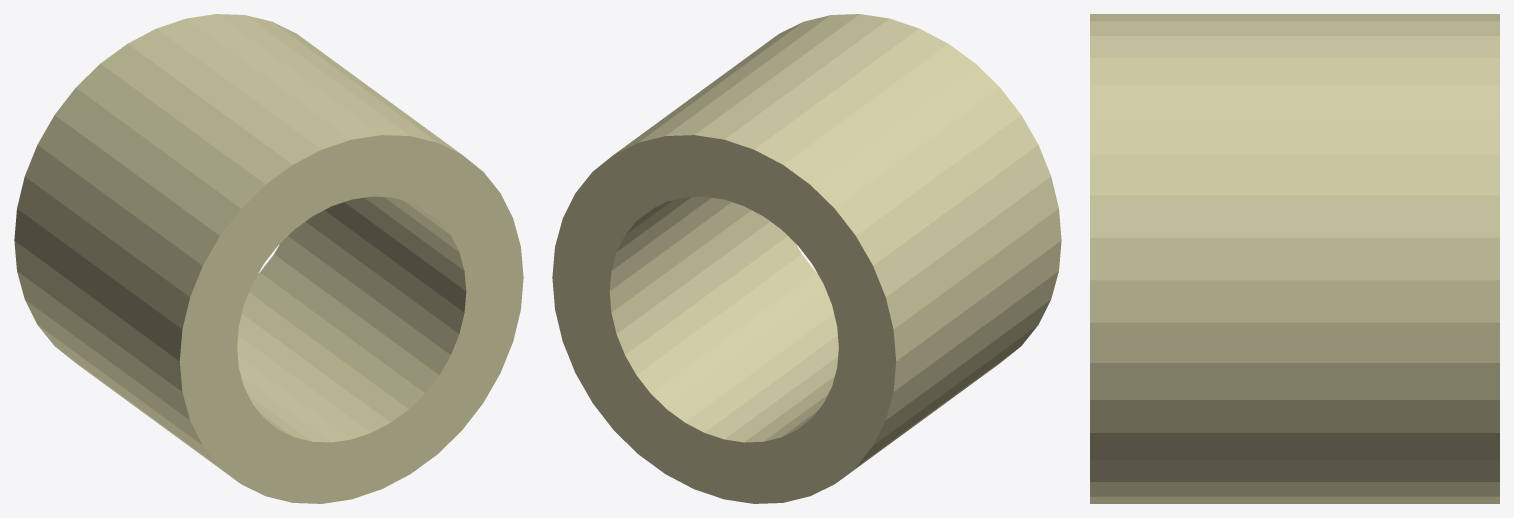
The model's file is difference3d.glb.
3 views of the same model, side by side, from view 1: azimuth 30°, elevation 25°; view 2: azimuth 150°, elevation 25°; view 3: azimuth 270°, elevation 25° (orthographic). The views are drawn at different scales.
Visible parts, largest first — view 1: geometry_0; view 2: geometry_0; view 3: geometry_0.
Boxes of the visible parts, x1,y1,x2,y2 form: geometry_0: (14, 14, 523, 503); geometry_0: (552, 14, 1061, 503); geometry_0: (1090, 14, 1499, 503).
Bounding box in the file's own units: 12 × 12 × 10.
